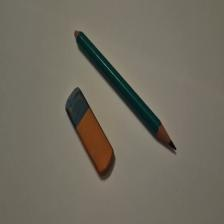eraser: (67, 87, 116, 176)
pencil: (76, 31, 178, 151)
